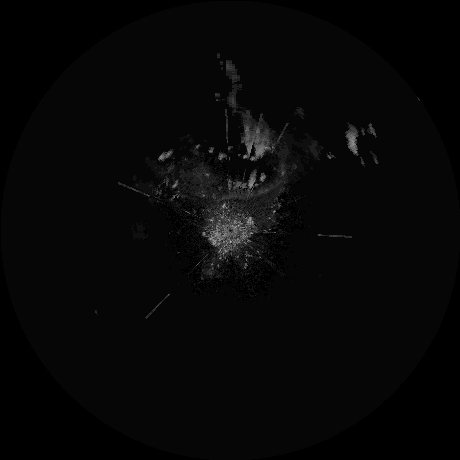frontgust: (219, 179, 285, 202)
